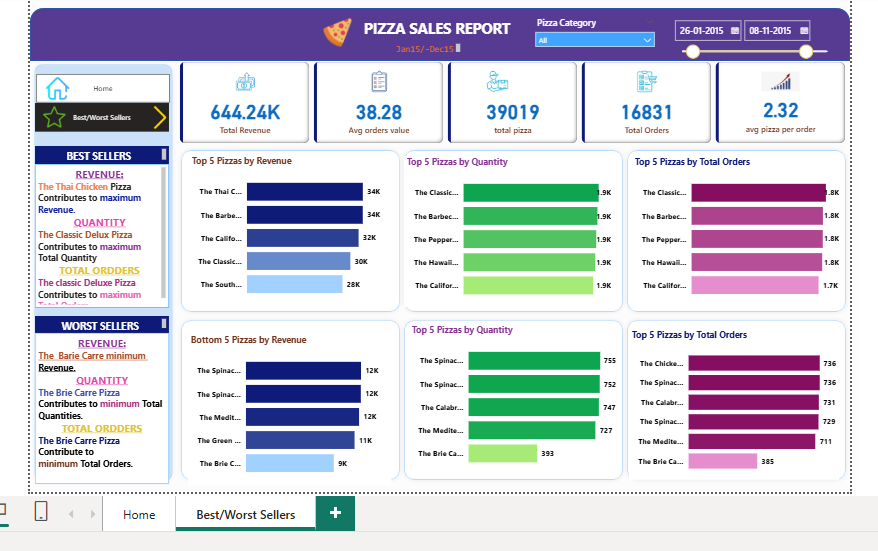

The page's visual inventory and layout, read from the dashboard file:
{"tool":"powerbi","page":{"name":"Best/Worst Sellers","canvas":[1500,900],"ordinal":1},"visuals":[{"type":"cardVisual","fields":{"Data":["pizza_sales.Total Revenue","pizza_sales.Avg orders value","pizza_sales.total pizza","pizza_sales.Total Orders","pizza_sales.avg pizza per order"]},"box":[268.9,107.9,1231.1,159.1],"z":0},{"type":"shape","box":[0,14.6,1500,97],"z":1000},{"type":"textbox","box":[574.4,27.4,340.2,56.7],"z":2000},{"type":"textbox","box":[664,75,128,32.9],"z":3000},{"type":"image","box":[519.5,27.4,86,64],"z":4000},{"type":"shape","box":[269.7,267.7,415.4,311],"z":5000},{"type":"shape","box":[0,109.8,268.6,778.4],"z":6000},{"type":"textbox","box":[9.8,266.7,245.1,33.3],"z":7000},{"type":"textbox","box":[9.8,300,245.1,262.7],"z":8000},{"type":"textbox","box":[9.8,609.8,245.1,276.5],"z":9000},{"type":"textbox","box":[9.8,578.4,245.1,31.4],"z":10000},{"type":"slicer","fields":{"Values":["pizza_sales.pizza_category"]},"box":[914.6,25.6,237.8,84.1],"z":11000},{"type":"slicer","fields":{"Values":["pizza_sales.order_date"]},"box":[1167.1,27.4,312.8,80.5],"z":12000},{"type":"shape","box":[676.8,267.1,415.2,311],"z":13000},{"type":"shape","box":[1084.8,267.1,415.2,311],"z":14000},{"type":"shape","box":[268.9,578,415.2,307.3],"z":15000},{"type":"shape","box":[676.8,578,415.2,307.3],"z":16000},{"type":"shape","box":[1084.8,578,415.2,307.3],"z":17000},{"type":"barChart","title":"Top 5 Pizzas by Revenue","fields":{"Category":["pizza_sales.pizza_name"],"Y":["pizza_sales.Total Revenue"]},"box":[291.3,283.5,372,275.6],"z":18000},{"type":"barChart","title":"Bottom 5 Pizzas by Revenue","fields":{"Category":["pizza_sales.pizza_name"],"Y":["pizza_sales.Total Revenue"]},"box":[289.4,610.2,372,275.6],"z":19000},{"type":"barChart","title":"Top 5 Pizzas by Quantity","fields":{"Category":["pizza_sales.pizza_name"],"Y":["pizza_sales.total pizza"]},"box":[684.1,285.4,384.1,276.2],"z":20000},{"type":"barChart","title":"Top 5 Pizzas by Quantity","fields":{"Category":["pizza_sales.pizza_name"],"Y":["pizza_sales.total pizza"]},"box":[693.3,592.7,384.1,276.2],"z":21000},{"type":"barChart","title":"Top 5 Pizzas by Total Orders","fields":{"Category":["pizza_sales.pizza_name"],"Y":["pizza_sales.Total Orders"]},"box":[1100.4,285.4,383.9,275.6],"z":22000},{"type":"barChart","title":"Top 5 Pizzas by Total Orders","fields":{"Category":["pizza_sales.pizza_name"],"Y":["pizza_sales.Total Orders"]},"box":[1096.5,602.4,383.9,275.6],"z":23000},{"type":"pageNavigator","box":[9.8,188.2,245.1,52.9],"z":24000},{"type":"pageNavigator","box":[11.8,135.3,245.1,52.9],"z":25000},{"type":"image","box":[205.9,188.2,62.7,52.9],"z":26000},{"type":"image","box":[11.8,135.3,78.4,52.9],"z":27000},{"type":"image","box":[0,188.2,88.2,51],"z":28000}]}

Visuals, with their boxes on the page's 1500x900 design canvas (x1, y1, x2, y2). These are canvas units, not pixel positions in the 878x551 screenshot, which may show the page scaled, cropped or inside an application window:
cardVisual - pizza_sales.Total Revenue x pizza_sales.Avg orders value: 269/108/1500/267
shape: 0/15/1500/112
textbox: 574/27/915/84
textbox: 664/75/792/108
image: 520/27/606/91
shape: 270/268/685/579
shape: 0/110/269/888
textbox: 10/267/255/300
textbox: 10/300/255/563
textbox: 10/610/255/886
textbox: 10/578/255/610
slicer - pizza_sales.pizza_category: 915/26/1152/110
slicer - pizza_sales.order_date: 1167/27/1480/108
shape: 677/267/1092/578
shape: 1085/267/1500/578
shape: 269/578/684/885
shape: 677/578/1092/885
shape: 1085/578/1500/885
"Top 5 Pizzas by Revenue" barChart: 291/284/663/559
"Bottom 5 Pizzas by Revenue" barChart: 289/610/661/886
"Top 5 Pizzas by Quantity" barChart: 684/285/1068/562
"Top 5 Pizzas by Quantity" barChart: 693/593/1077/869
"Top 5 Pizzas by Total Orders" barChart: 1100/285/1484/561
"Top 5 Pizzas by Total Orders" barChart: 1096/602/1480/878
pageNavigator: 10/188/255/241
pageNavigator: 12/135/257/188
image: 206/188/269/241
image: 12/135/90/188
image: 0/188/88/239
